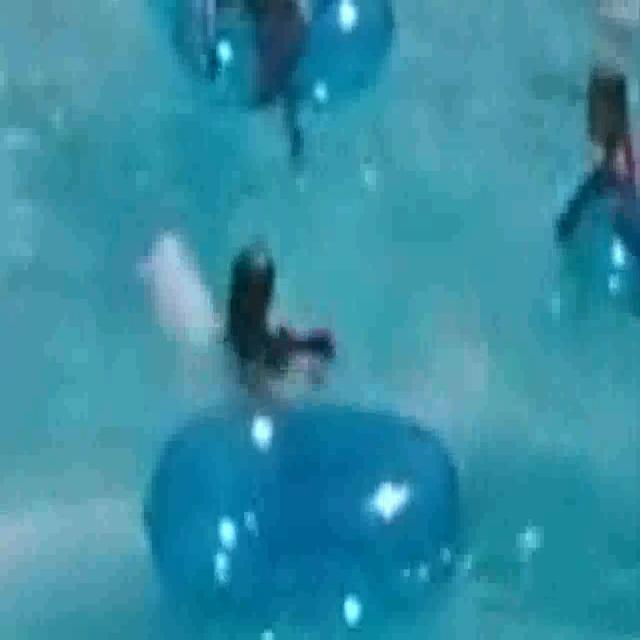drowning: (158, 230, 352, 406)
